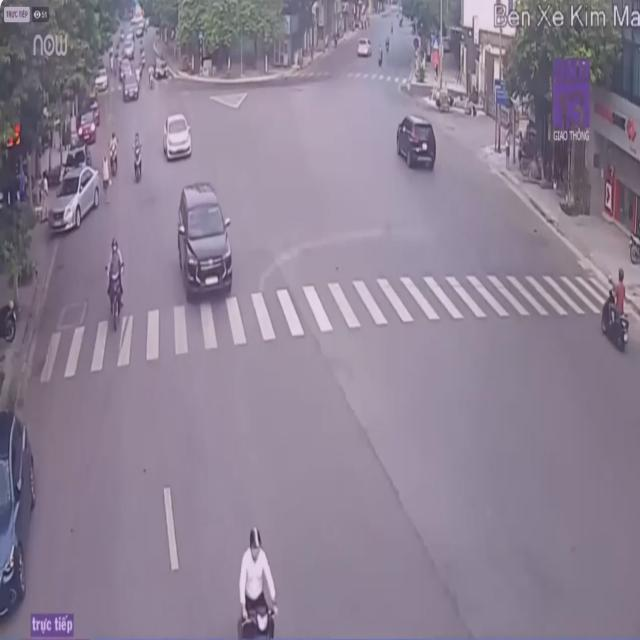car: (0, 408, 35, 625), (176, 183, 235, 305), (44, 161, 100, 239), (396, 112, 440, 174), (162, 112, 194, 164)
motorbike: (233, 525, 282, 638), (600, 272, 629, 352), (104, 238, 127, 330), (130, 132, 145, 188), (107, 131, 120, 183)
